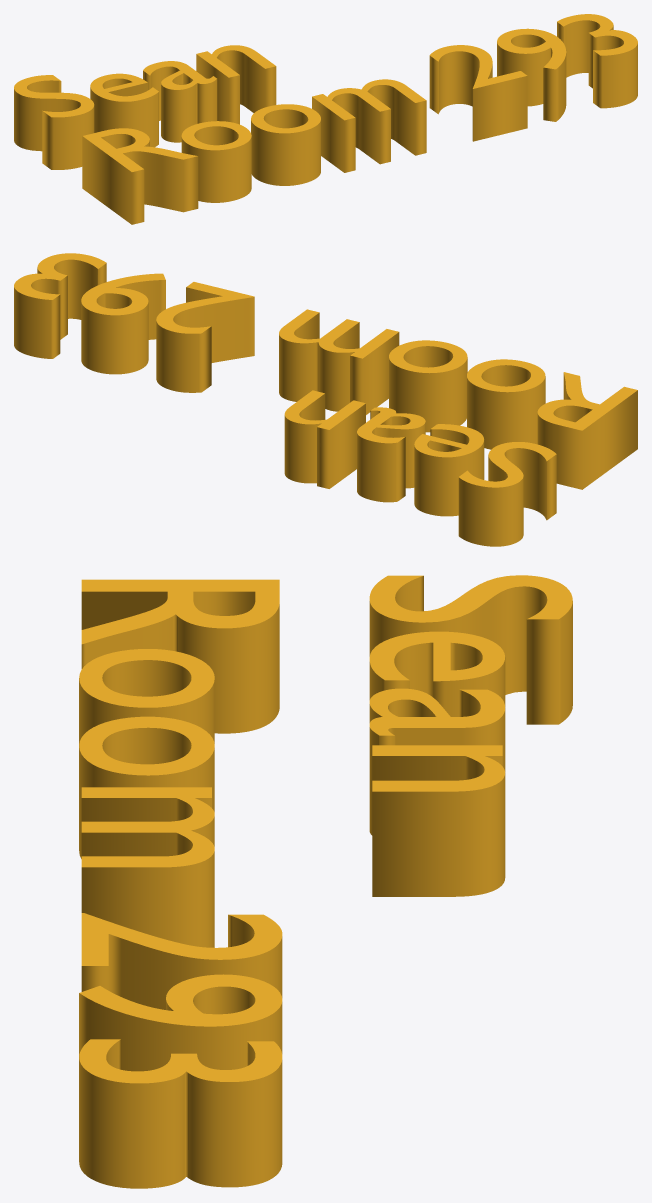
The model's file is sean-293.gltf.
3 views of the same model, one above another, from view 1: azimuth 30°, elevation 25°; view 2: azimuth 150°, elevation 25°; view 3: azimuth 270°, elevation 25° (orthographic). The views are drawn at different scales.
Visible parts, largest first — view 1: Text; view 2: Text; view 3: Text.
Part boxes in pixels (x1,y1,x2,y2): Text: (14,14,637,224); Text: (14,253,637,546); Text: (79,575,572,1188).
Size of the model in its own units: 4.14 by 0.4 by 1.7.
